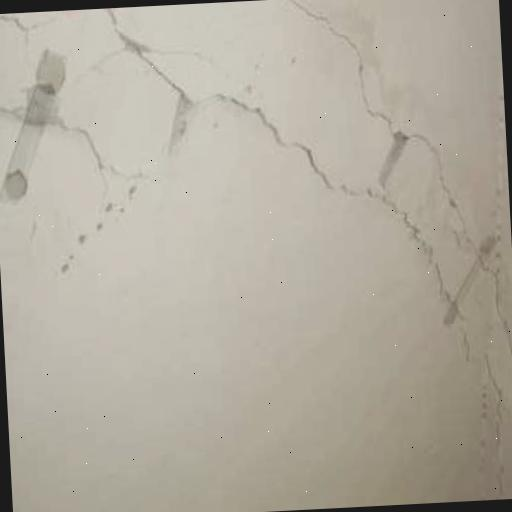spalling: (102, 15, 476, 357), (286, 0, 498, 284)
